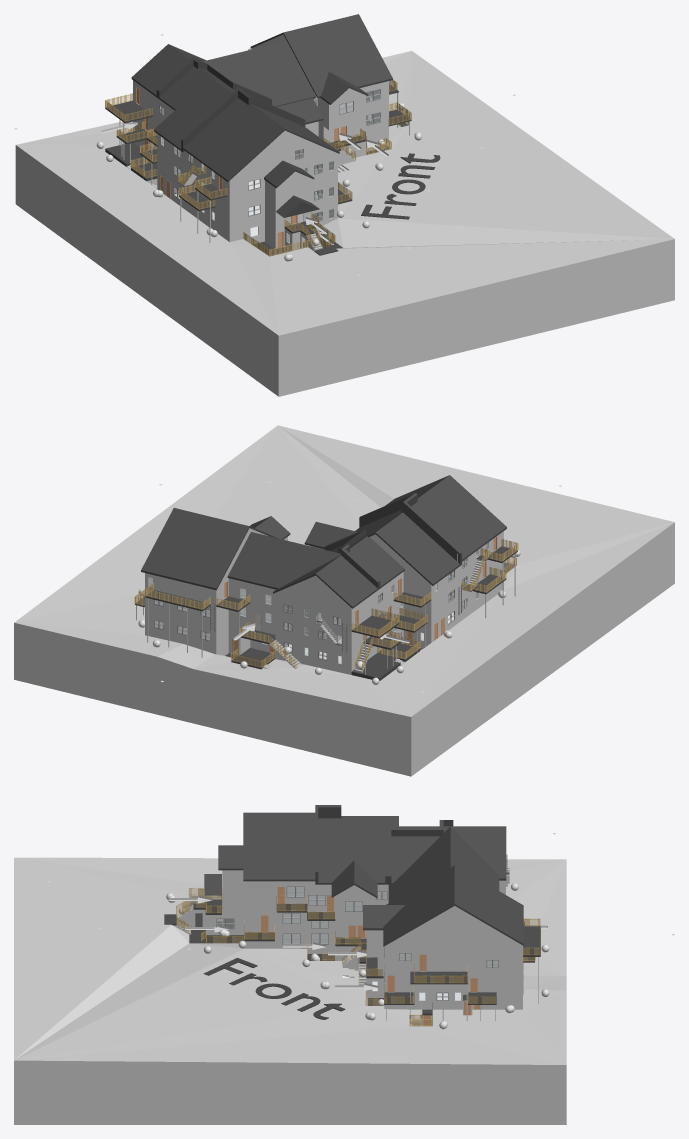
File: house.glb
3 renders of one model, top to bottom at view 1: azimuth 30°, elevation 25°; view 2: azimuth 150°, elevation 25°; view 3: azimuth 270°, elevation 25°, orthographic. The views are drawn at different scales.
Parts seen in each view (by area): view 1: Fake, Text; view 2: Fake; view 3: Fake, Text.
Part boxes in pixels (x1=…): Fake: x1=15, y1=14, x2=674, y2=396; Text: x1=361, y1=153, x2=440, y2=219; Fake: x1=14, y1=425, x2=674, y2=776; Fake: x1=14, y1=805, x2=566, y2=1124; Text: x1=203, y1=958, x2=345, y2=1019.
Bounding box in the file's own units: 65.27 × 25.9 × 88.27.
